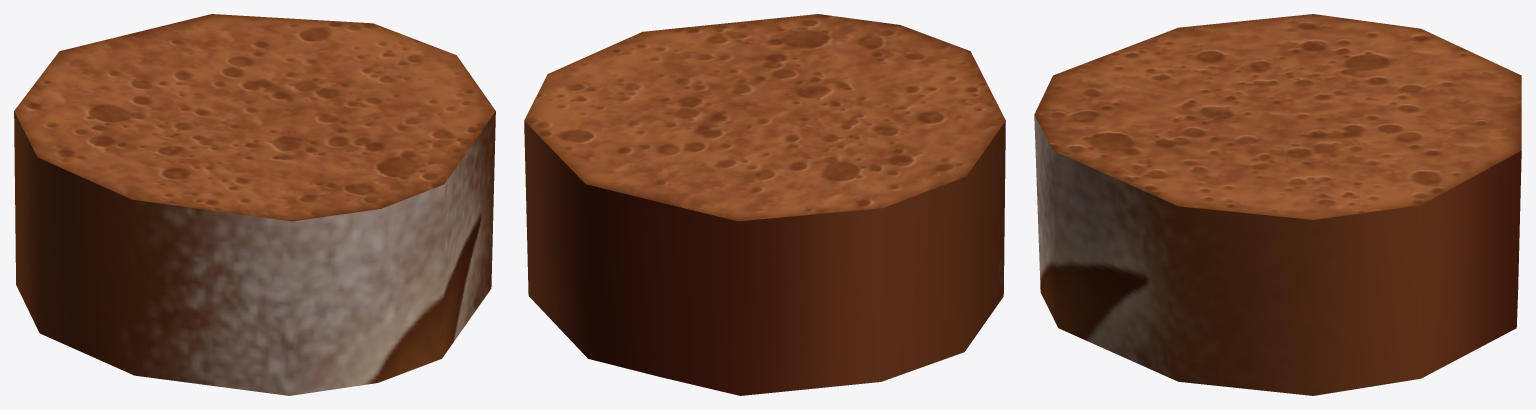
Rendered from Baguette_03_Slice.fbx.
3 renders of one model, left to right at view 1: azimuth 30°, elevation 25°; view 2: azimuth 150°, elevation 25°; view 3: azimuth 270°, elevation 25°, orthographic.
Parts seen in each view (by area): view 1: Baguette_03_Slice; view 2: Baguette_03_Slice; view 3: Baguette_03_Slice.
Part boxes in pixels (x1,y1,x2,y2): Baguette_03_Slice: [14, 14, 495, 395]; Baguette_03_Slice: [524, 14, 1005, 395]; Baguette_03_Slice: [1034, 14, 1521, 395].
Size of the model in its own units: 20 by 8.05 by 20.
